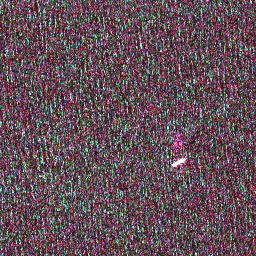ship: (169, 154, 188, 169)
